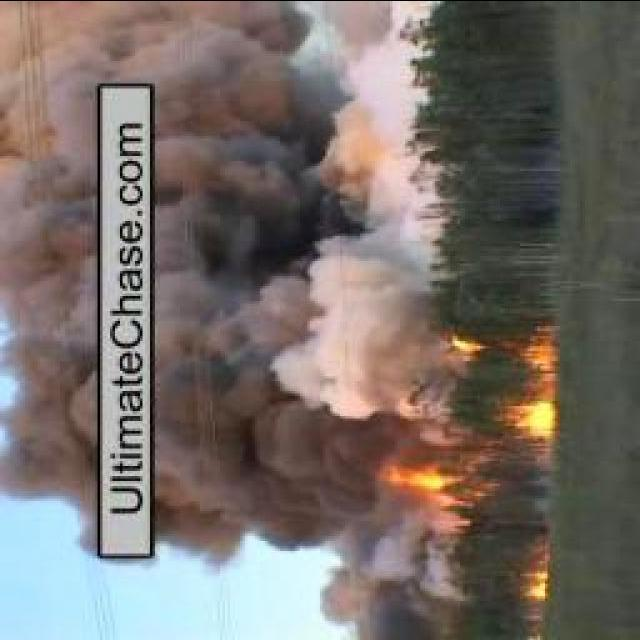Fire: (442, 329, 552, 383), (377, 462, 457, 493), (492, 400, 557, 434), (518, 568, 548, 602)
